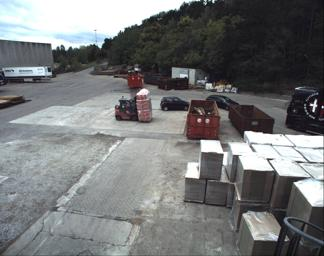rockwool_batts: (133, 87, 153, 122)
